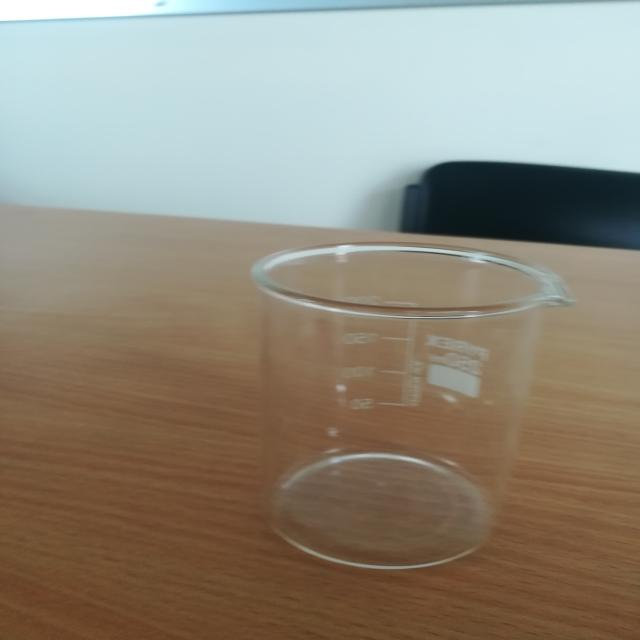Beaker: (166, 192, 588, 584)
